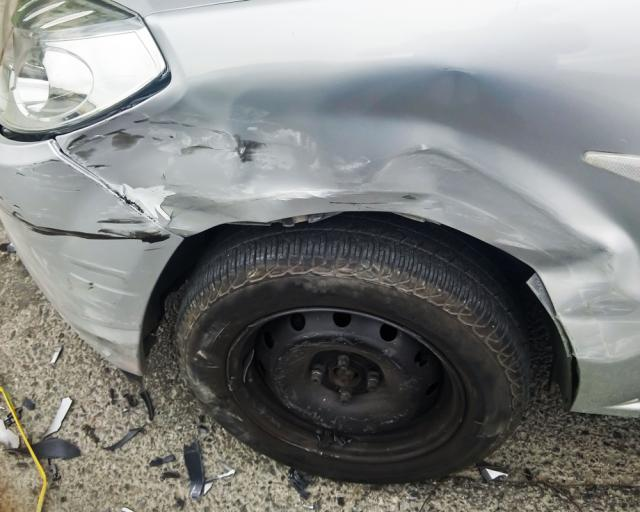dent: (65, 71, 640, 370)
scratch: (0, 157, 170, 345)
